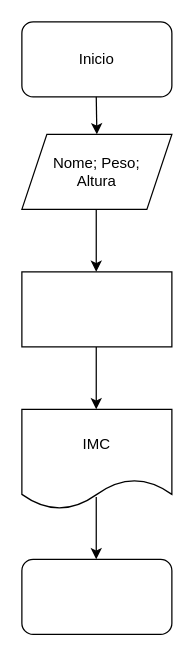
This 194x656 diagram has some shape labels left out. Here are the shapes that lost their labels. From the top down, the centre of each, then its label:
the point at 96,309: Calcular IMC
the point at 96,596: Fim
